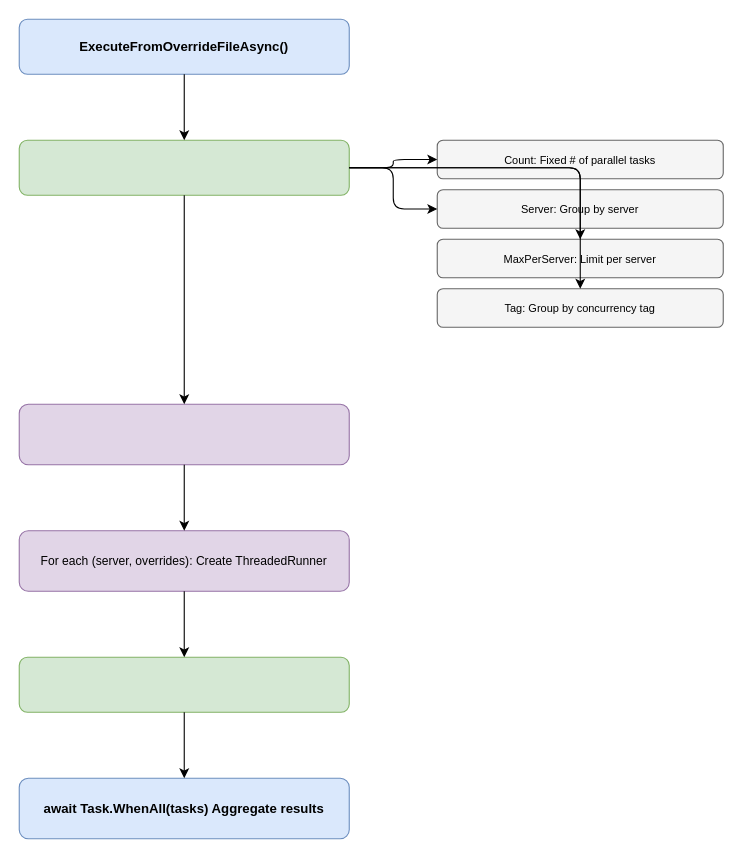
Some shapes in this 743 by 858 pixel diagram are drawn without their labels. The shapes that lost their labels are listed below. From the top down, each one's centre as x and y in pixels, then its label:
[183,167]: Concurrency.ConcurrencyByType()
[183,434]: For each bucket (parallel): ProcessConcurrencyBucketAsync()
[183,684]: ProcessThreadedBuildAsync()
